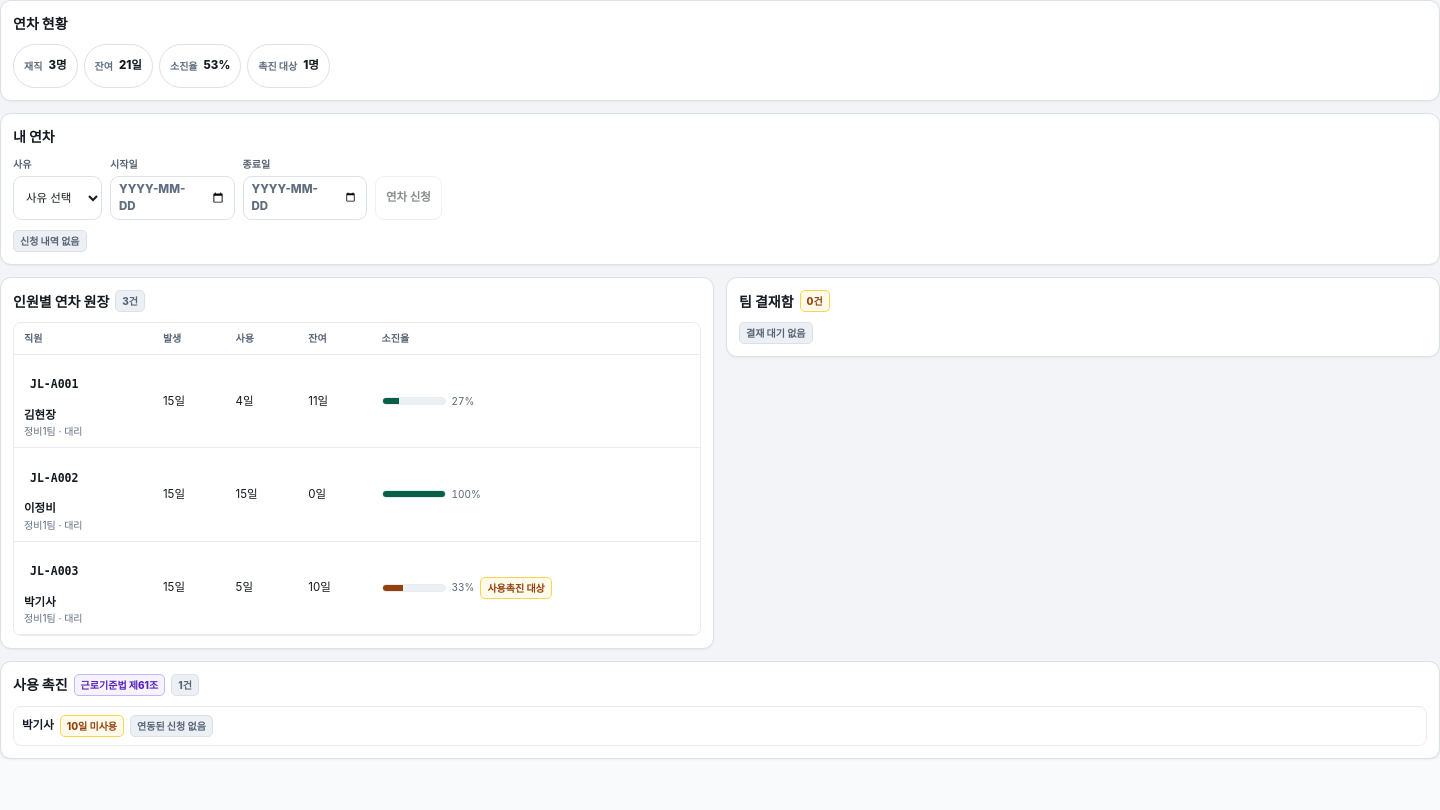
LeaveConsole (레인1 leave 카드 존, real-wired) › 본인 신청: a 반차 maps to half_day on a single date, and a backend rejection surfaces verbatim
The width and height of the screenshot is (1440, 810).
Select "반차(오전)" in the dropdown labelled "사유" at (58, 198), box [13,176,102,220]
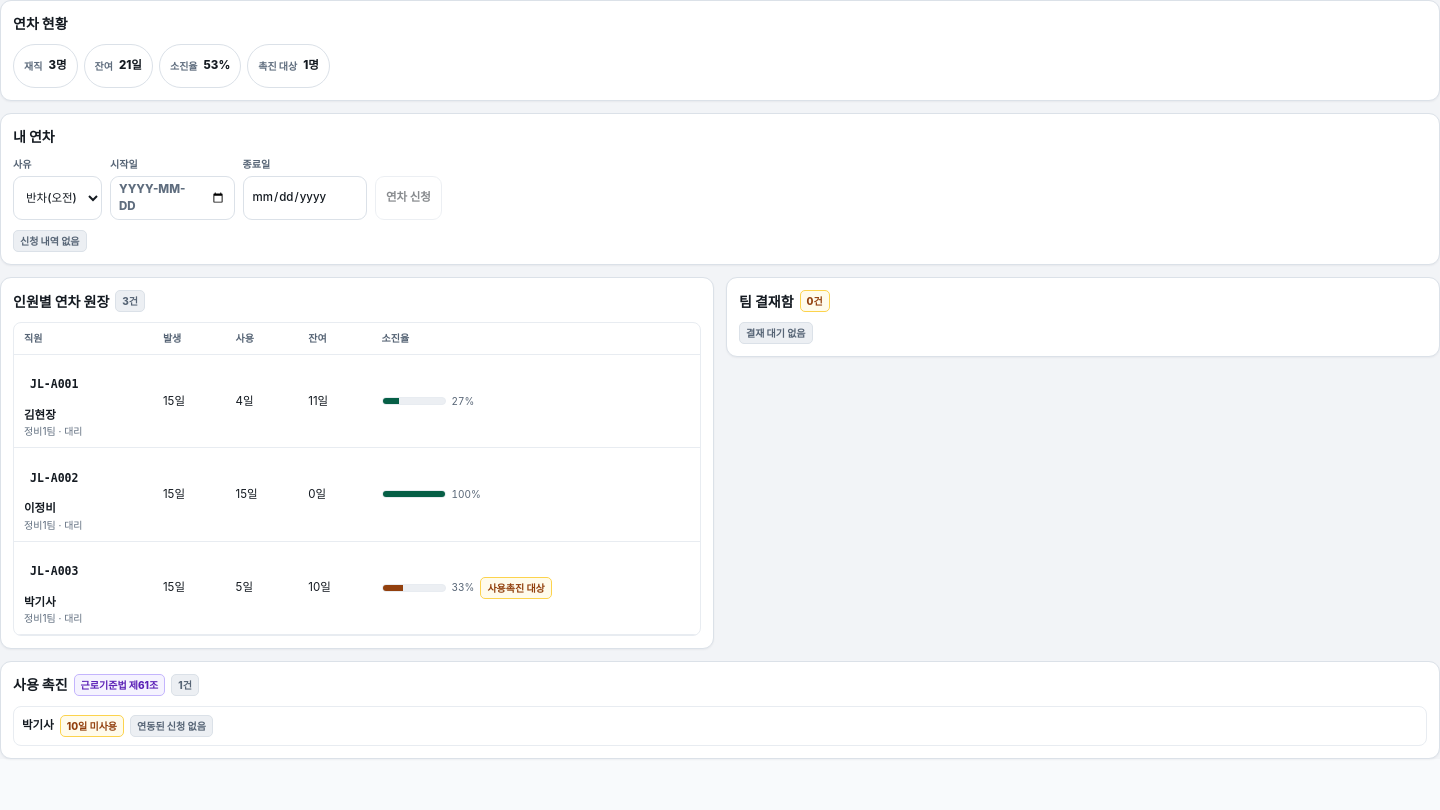
Type "2026-07-06" into the date field labelled "시작일".
click(172, 198); type("2026-07-06")  # box [110,176,234,220]
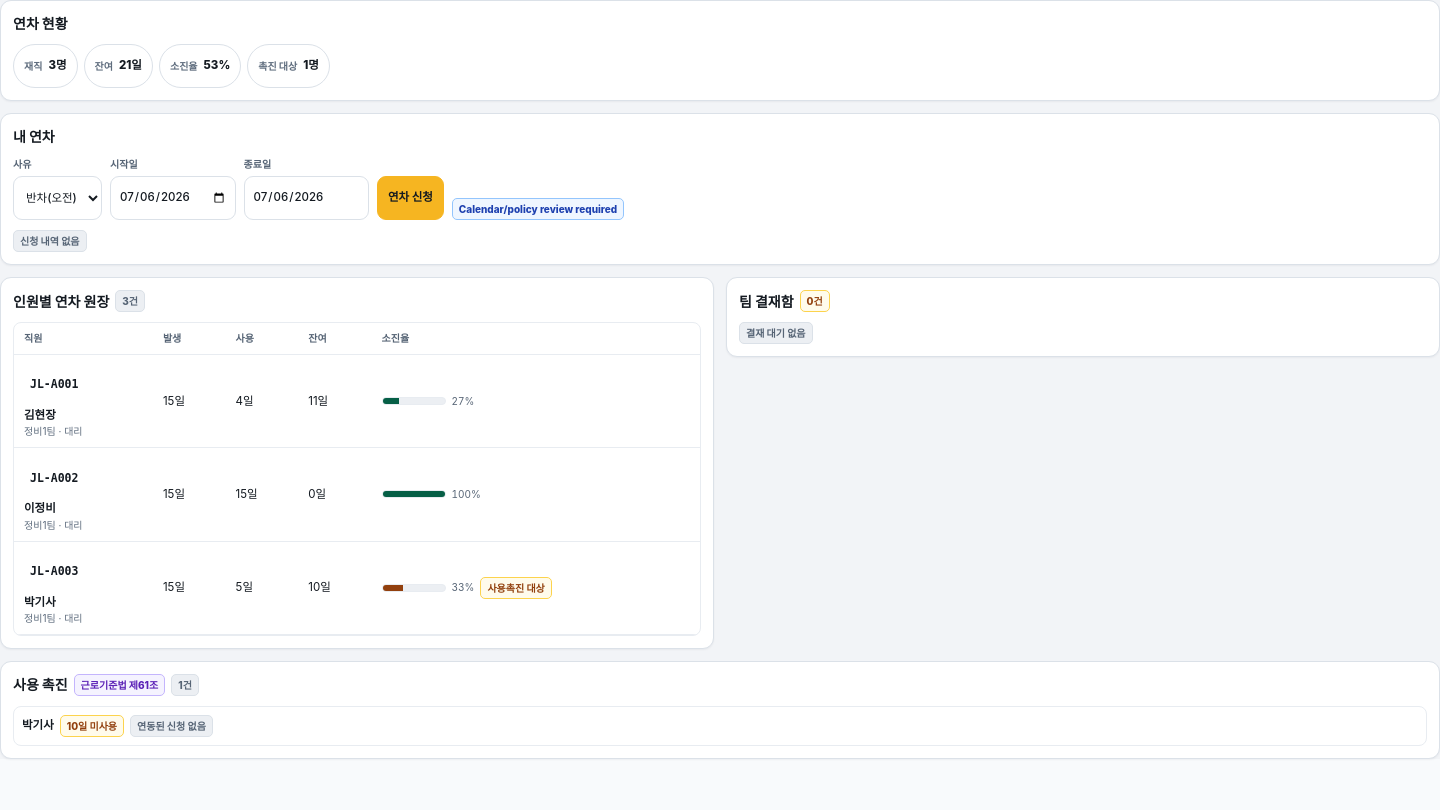
Click the button "연차 신청".
click(410, 198)  # box [377,176,444,220]
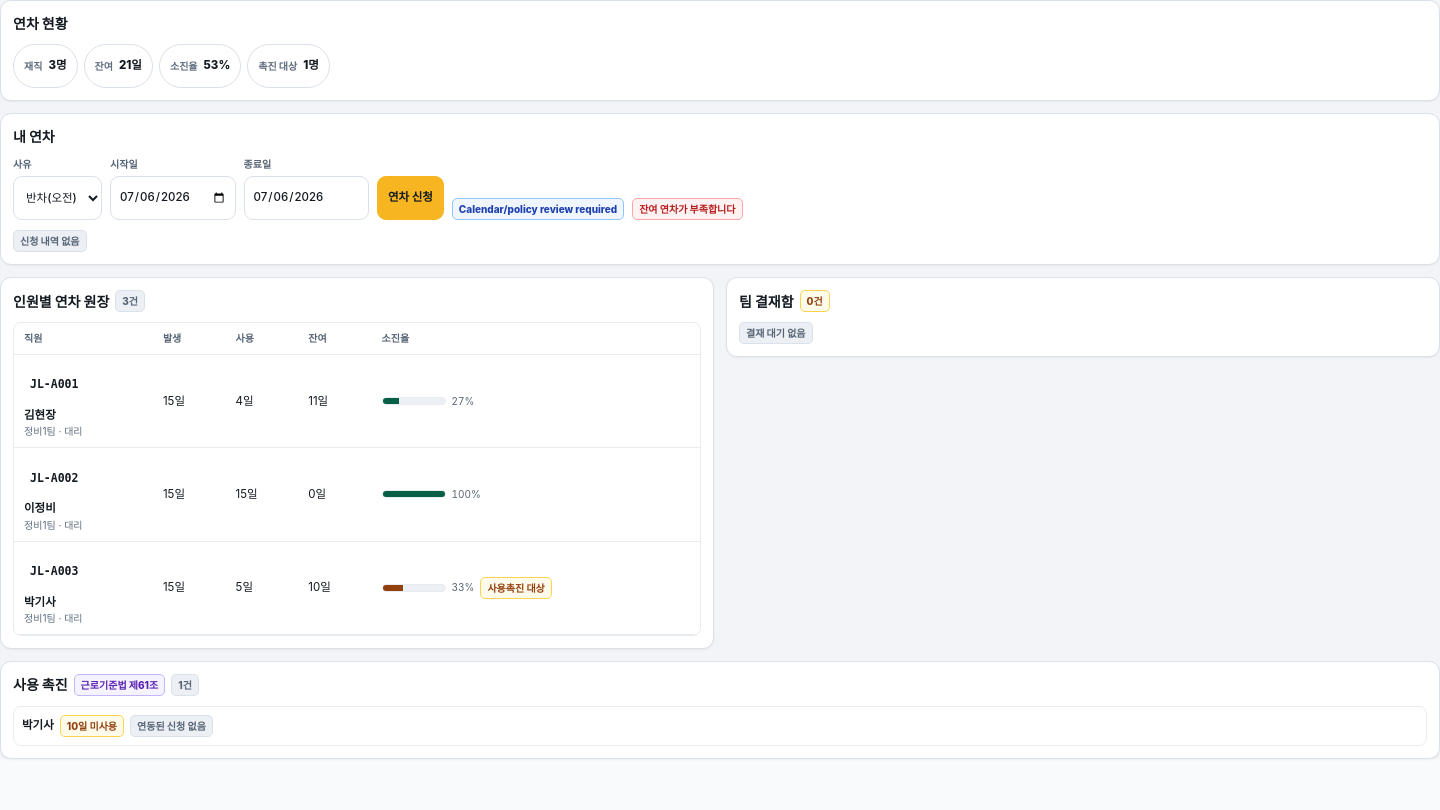
expect the message reads "잔여 연차가 부족합니다": met, box [639,203,736,215]
